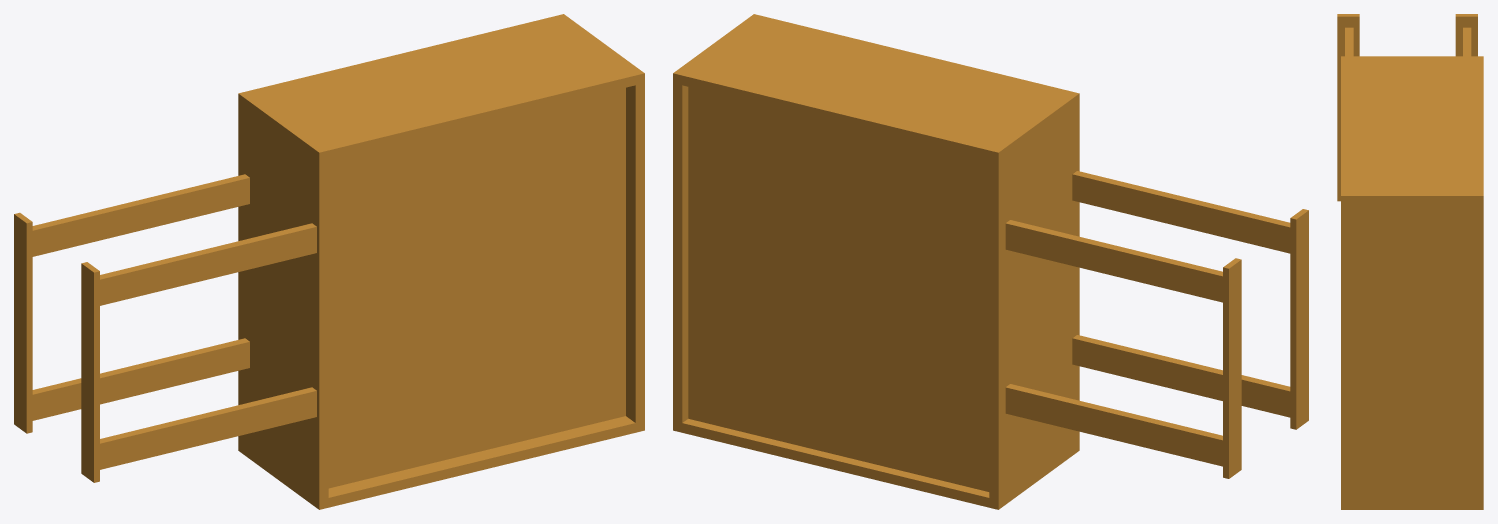
Rendered from SM_sign_japan_03.fbx.
3 renders of one model, left to right at view 1: azimuth 30°, elevation 25°; view 2: azimuth 150°, elevation 25°; view 3: azimuth 270°, elevation 25°, orthographic. The views are drawn at different scales.
Parts seen in each view (by area): view 1: Box023; view 2: Box023; view 3: Box023.
Part boxes in pixels (x1=…): Box023: x1=14, y1=14, x2=644, y2=509; Box023: x1=673, y1=14, x2=1308, y2=509; Box023: x1=1337, y1=14, x2=1483, y2=509.
Size of the model in its own units: 55.87 by 14.55 by 34.5.
